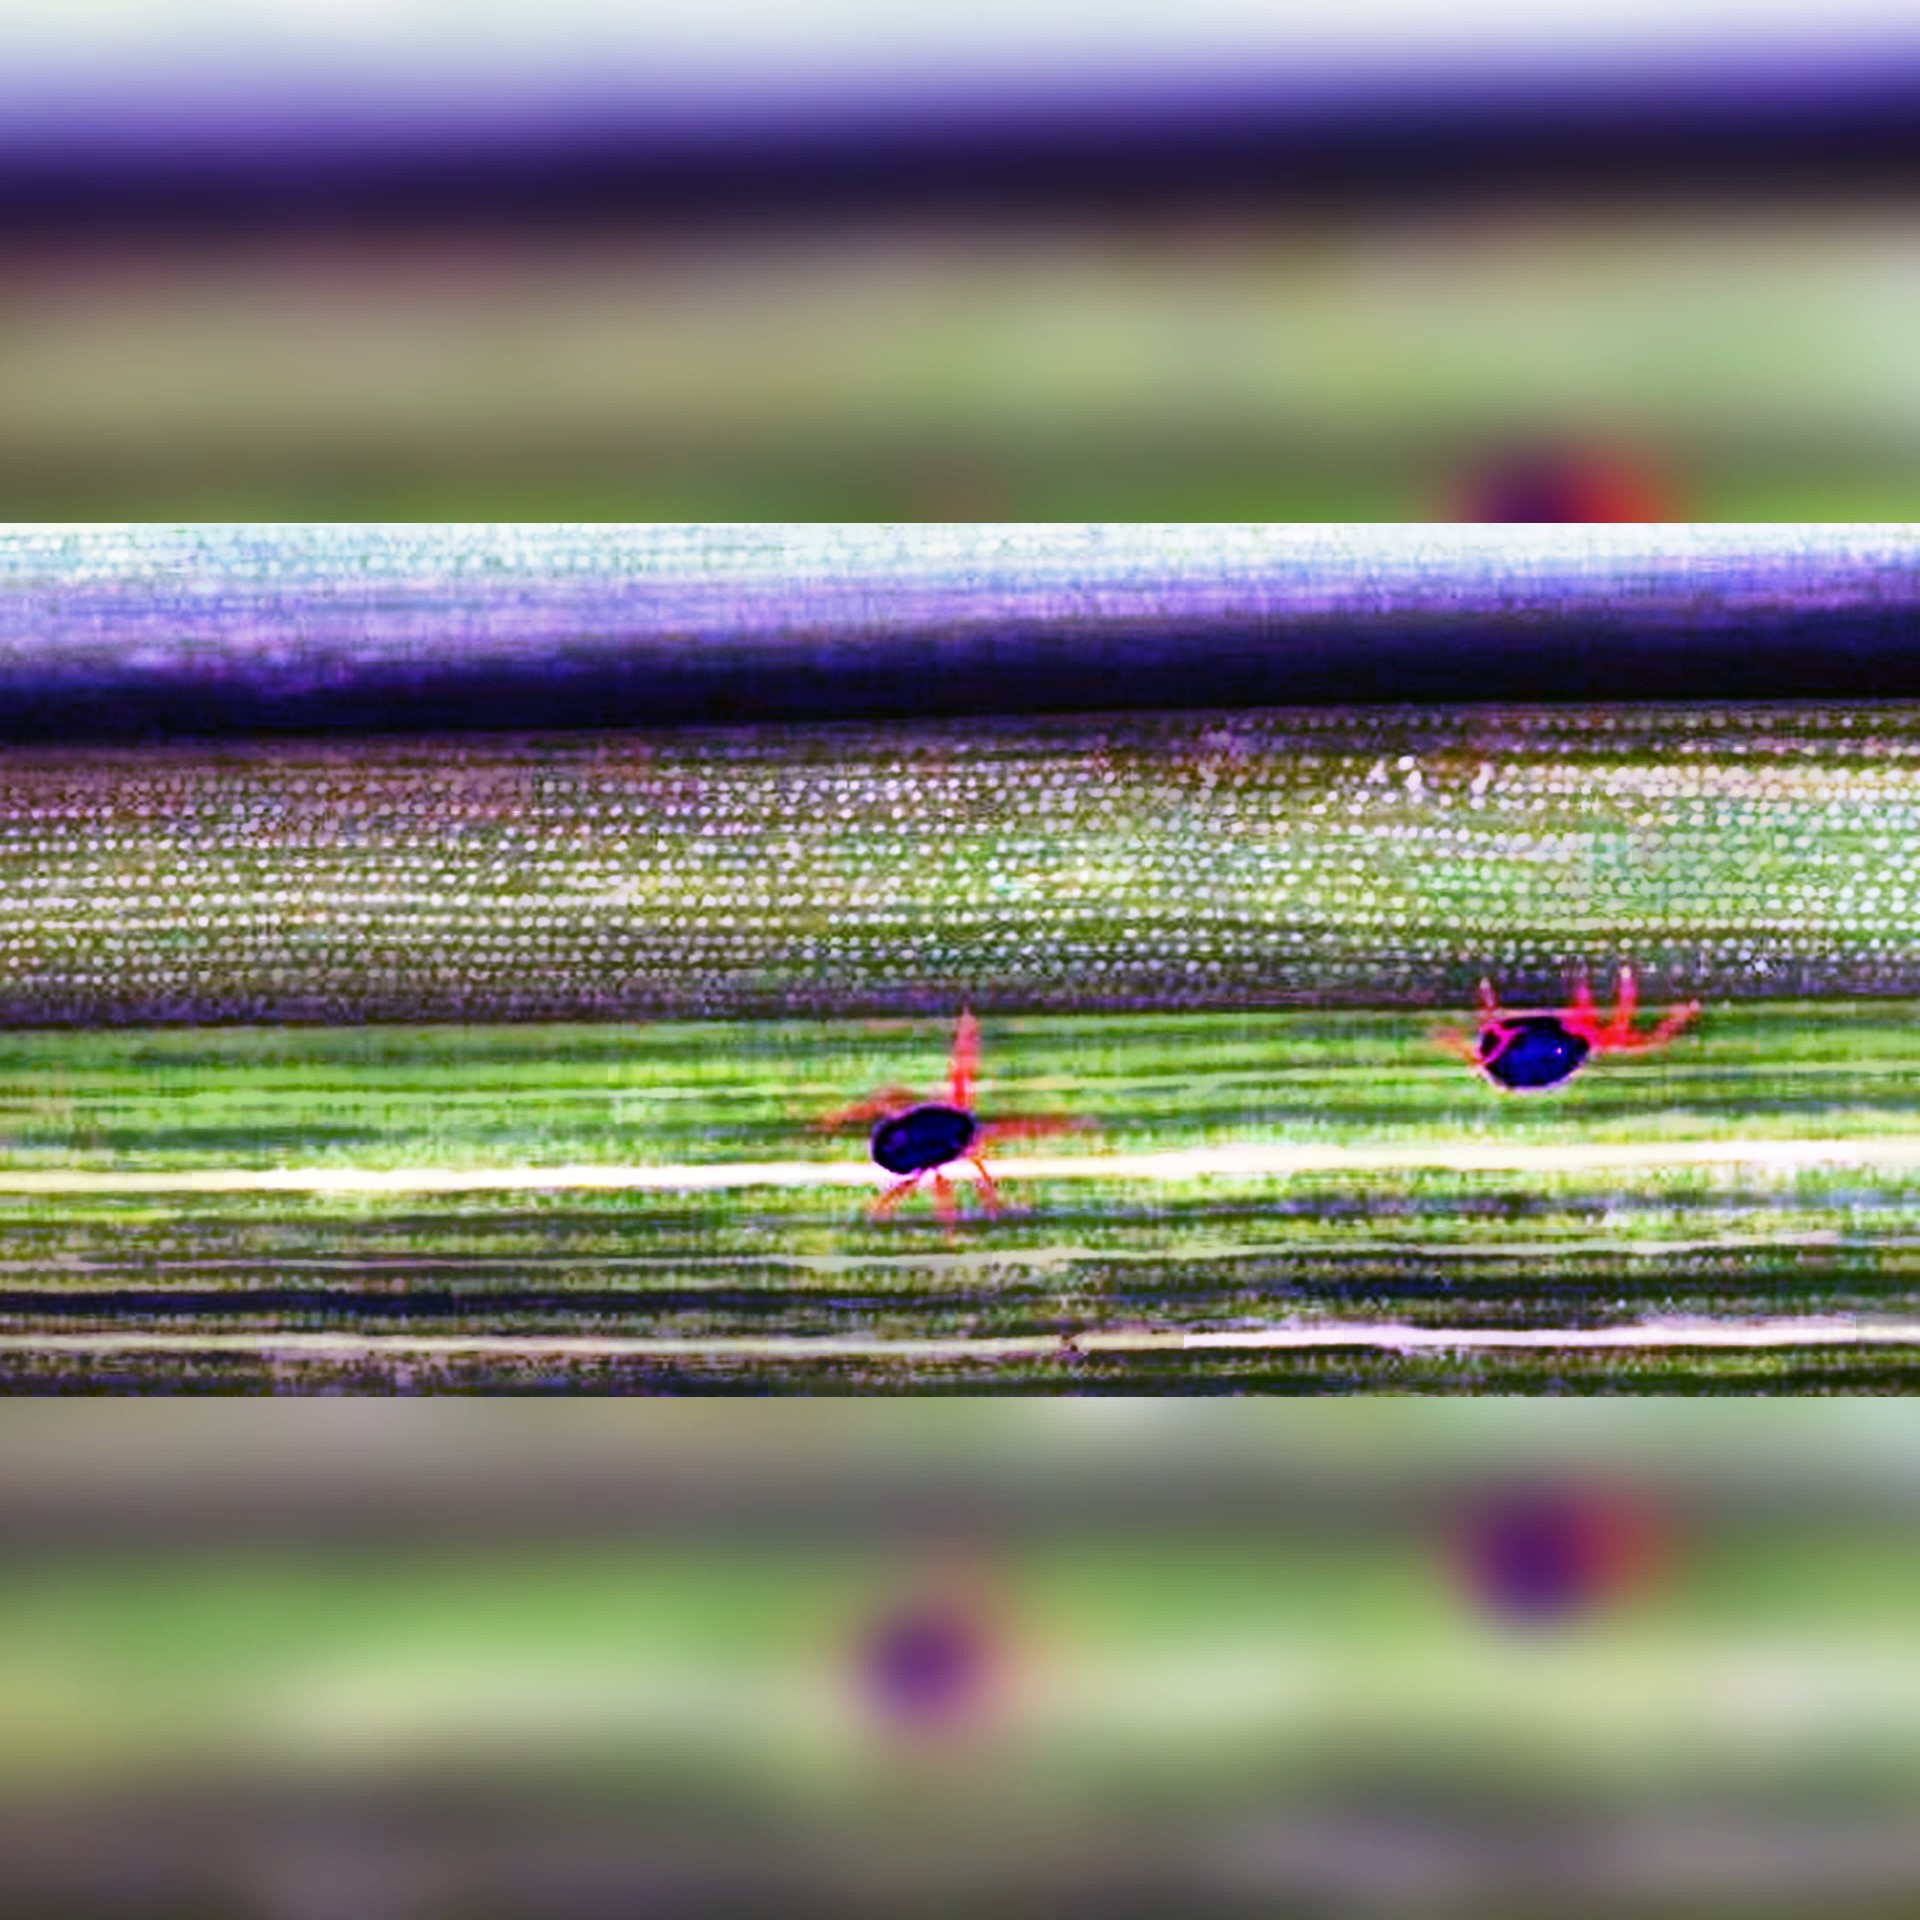Wheat Red Spider: (795, 1002, 1113, 1259)
